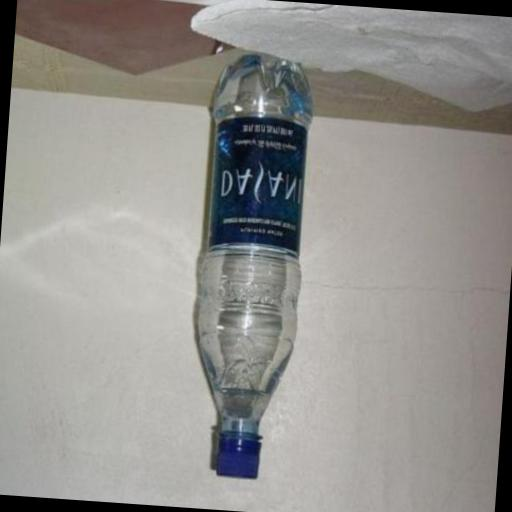Coca: (176, 46, 321, 487)
